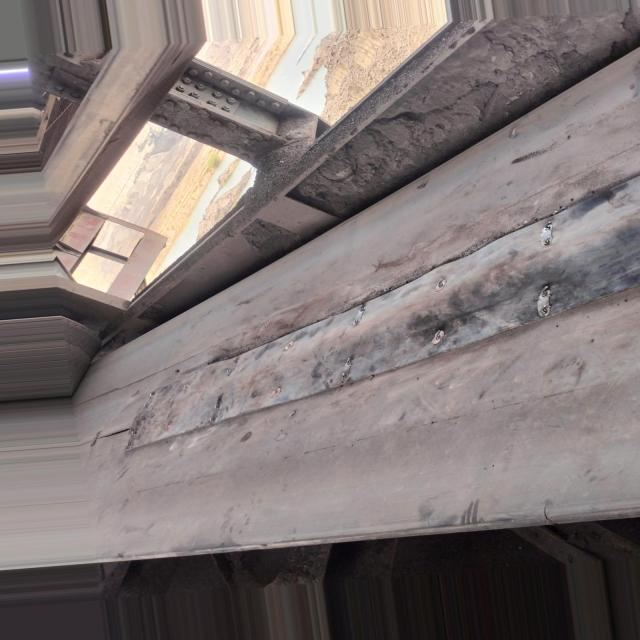patch work: (118, 170, 640, 460)
